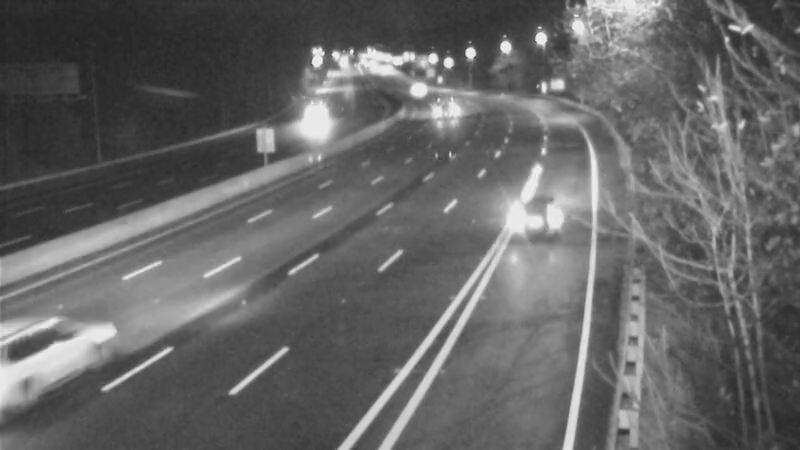vehicle: (1, 307, 108, 417), (490, 178, 570, 258), (390, 63, 440, 113), (415, 83, 465, 133), (294, 93, 344, 143)
